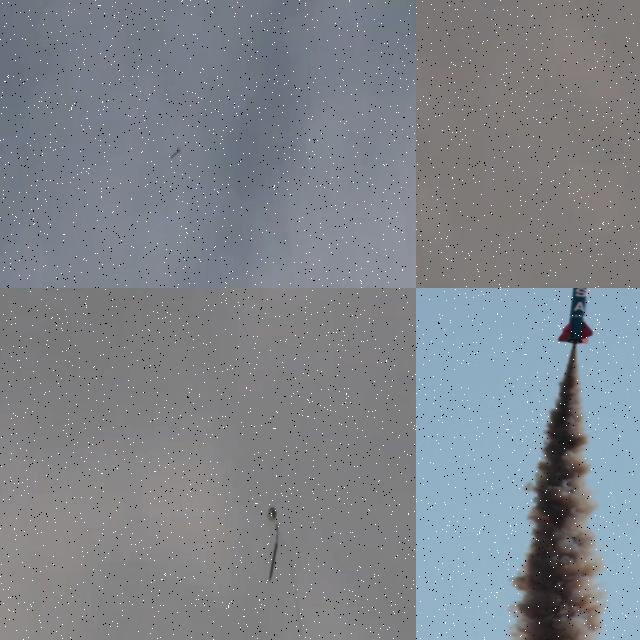Rocket: (557, 288, 593, 345), (170, 148, 181, 159)
